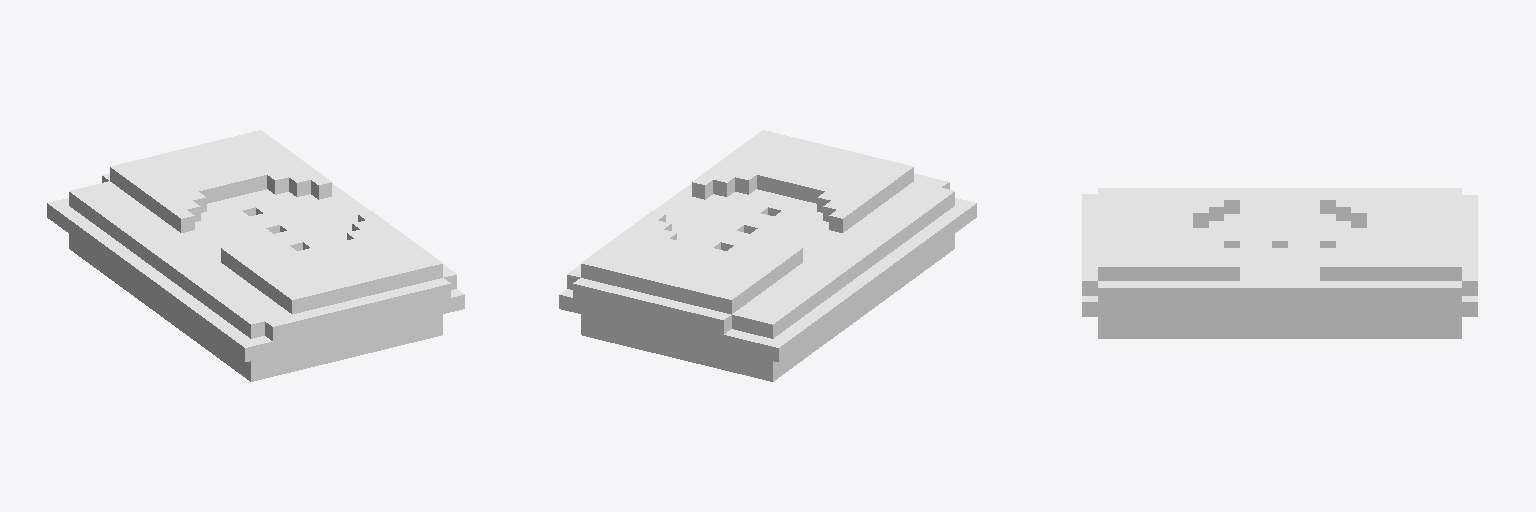
File: Extra-15-DualStriker_CanonDoor_L.obj
The picture shows the model from 3 angles: view 1: azimuth 30°, elevation 25°; view 2: azimuth 150°, elevation 25°; view 3: azimuth 270°, elevation 25°; orthographic projection.
Visible parts, largest first — view 1: DualStriker_CanonDoor_L; view 2: DualStriker_CanonDoor_L; view 3: DualStriker_CanonDoor_L.
Boxes of the visible parts, x1=… form: DualStriker_CanonDoor_L: x1=47, y1=130, x2=464, y2=381; DualStriker_CanonDoor_L: x1=559, y1=130, x2=976, y2=381; DualStriker_CanonDoor_L: x1=1082, y1=188, x2=1477, y2=338.
Size of the model in its own units: 1.6 by 0.5 by 2.5.